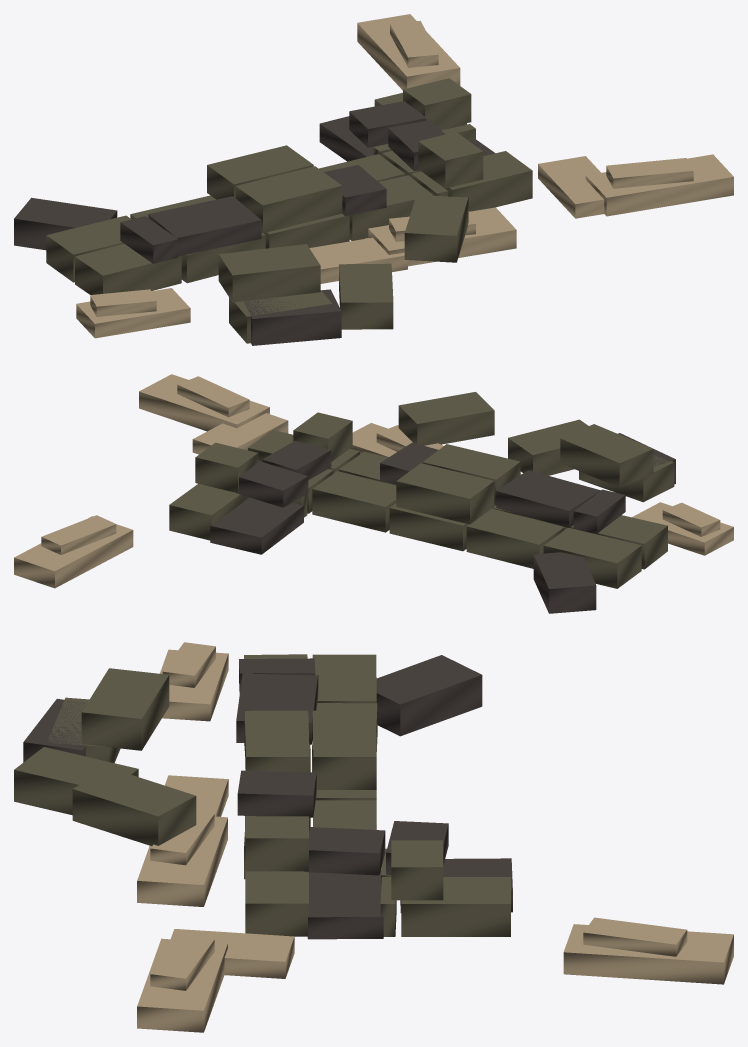
File: SM_SacosRemateEspejo_v1_Talud_e2_MuyDanado_LOD0.fbx
3 renders of one model, top to bottom at view 1: azimuth 30°, elevation 25°; view 2: azimuth 150°, elevation 25°; view 3: azimuth 270°, elevation 25°, orthographic. The views are drawn at different scales.
Visible parts, largest first — view 1: SM_sacos_piezas_v26_LOD0; view 2: SM_sacos_piezas_v26_LOD0; view 3: SM_sacos_piezas_v26_LOD0.
Part boxes in pixels (x1=…): SM_sacos_piezas_v26_LOD0: x1=14, y1=14, x2=733, y2=345; SM_sacos_piezas_v26_LOD0: x1=14, y1=374, x2=733, y2=613; SM_sacos_piezas_v26_LOD0: x1=14, y1=642, x2=733, y2=1032.
Bounding box in the file's own units: 6.41 × 0.585 × 5.33.
